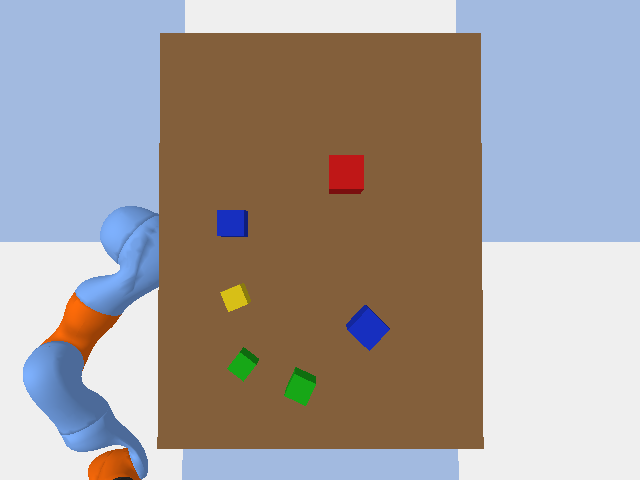blue_obj: (346, 305, 389, 350), (217, 210, 247, 236)
green_obj: (284, 367, 315, 405), (227, 347, 258, 381)
red_obj: (329, 155, 363, 193)
yellow_obj: (220, 283, 250, 311)
